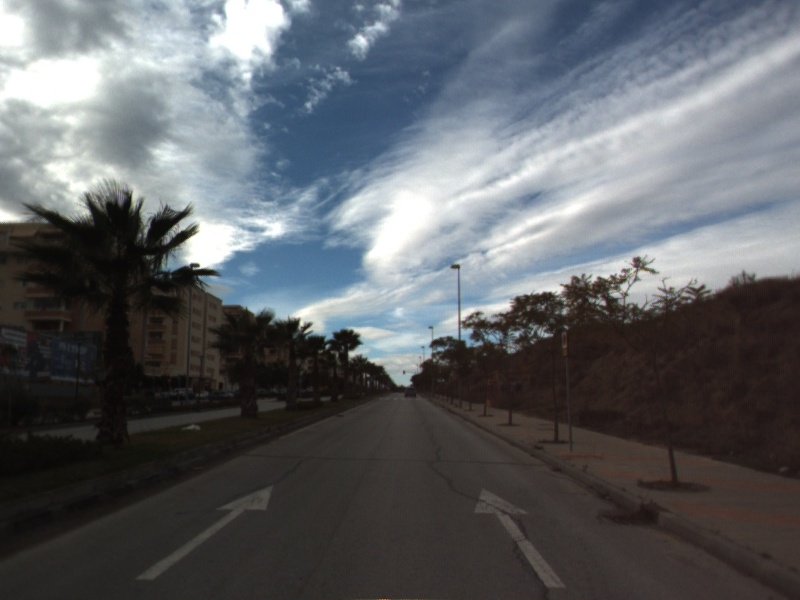STRAIGHT: (134, 482, 275, 582), (472, 486, 568, 590)
